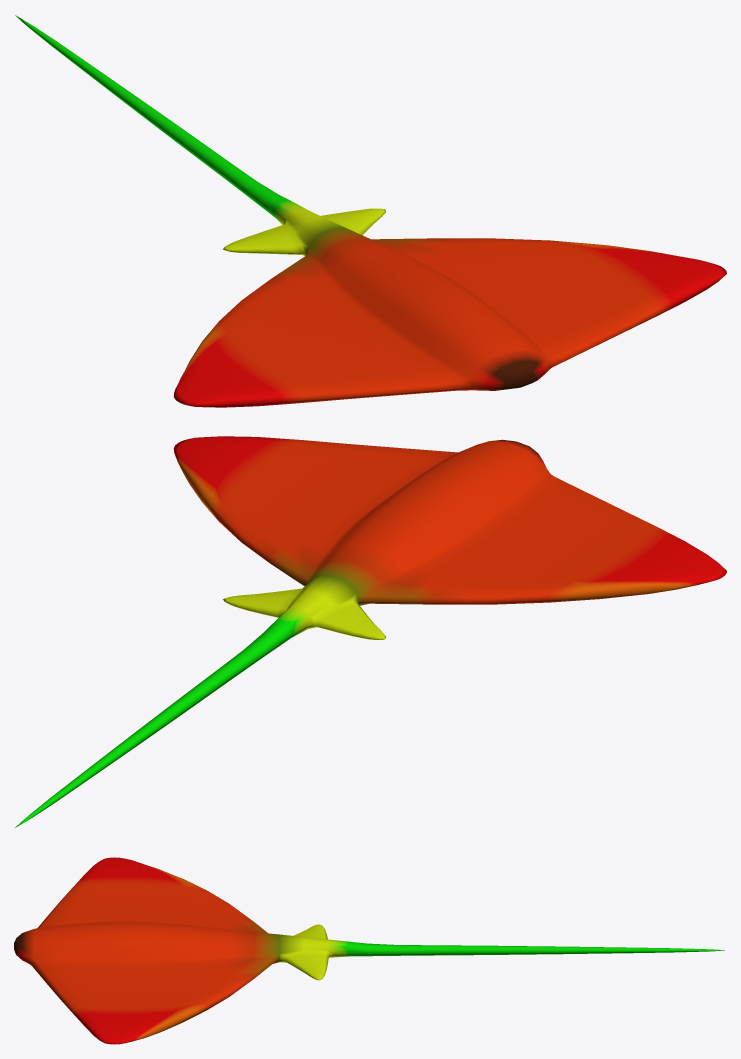
The model's file is Ray.fbx.
3 views of the same model, one above another, from view 1: azimuth 30°, elevation 25°; view 2: azimuth 150°, elevation 25°; view 3: azimuth 270°, elevation 25° (orthographic). The views are drawn at different scales.
Parts seen in each view (by area): view 1: pCube1; view 2: pCube1; view 3: pCube1.
Part boxes in pixels (left/top/right/bottom): pCube1: left=15, top=15, right=726, bottom=407; pCube1: left=15, top=436, right=726, bottom=827; pCube1: left=14, top=857, right=724, bottom=1044.
Size of the model in its own units: 8.5 by 0.6067 by 13.69.
